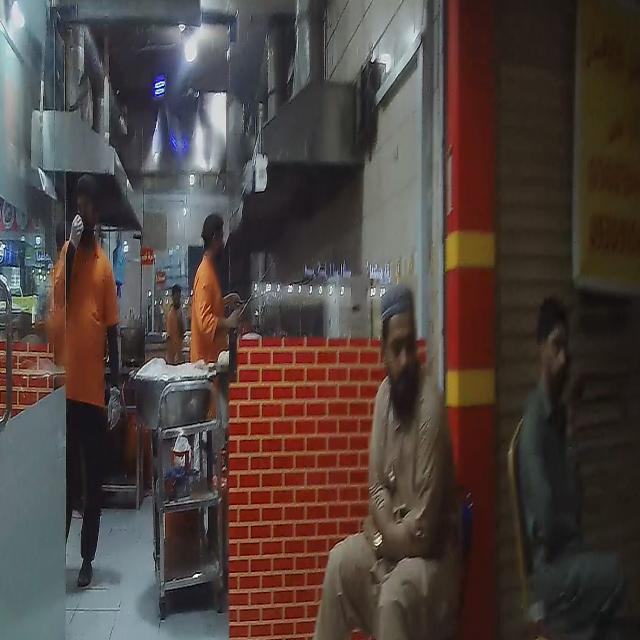face_no_mask: (380, 309, 419, 412)
